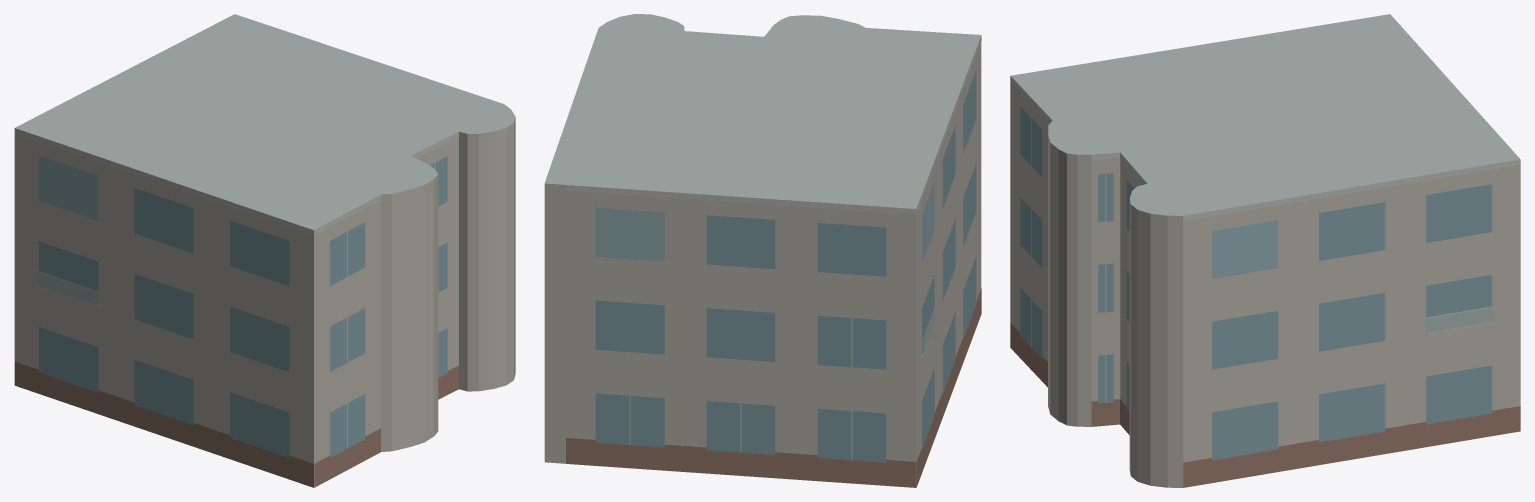
The model's file is survey-upis-32951625.glb.
3 renders of one model, left to right at view 1: azimuth 30°, elevation 25°; view 2: azimuth 150°, elevation 25°; view 3: azimuth 270°, elevation 25°, orthographic. The views are drawn at different scales.
Visible parts, largest first — view 1: survey-upis-32951625.tmp; view 2: survey-upis-32951625.tmp; view 3: survey-upis-32951625.tmp.
Boxes of the visible parts, <box> form: survey-upis-32951625.tmp: <box>14,14,515,487</box>; survey-upis-32951625.tmp: <box>544,14,981,487</box>; survey-upis-32951625.tmp: <box>1010,14,1520,487</box>.
Size of the model in its own units: 19.1 by 12 by 20.4.
